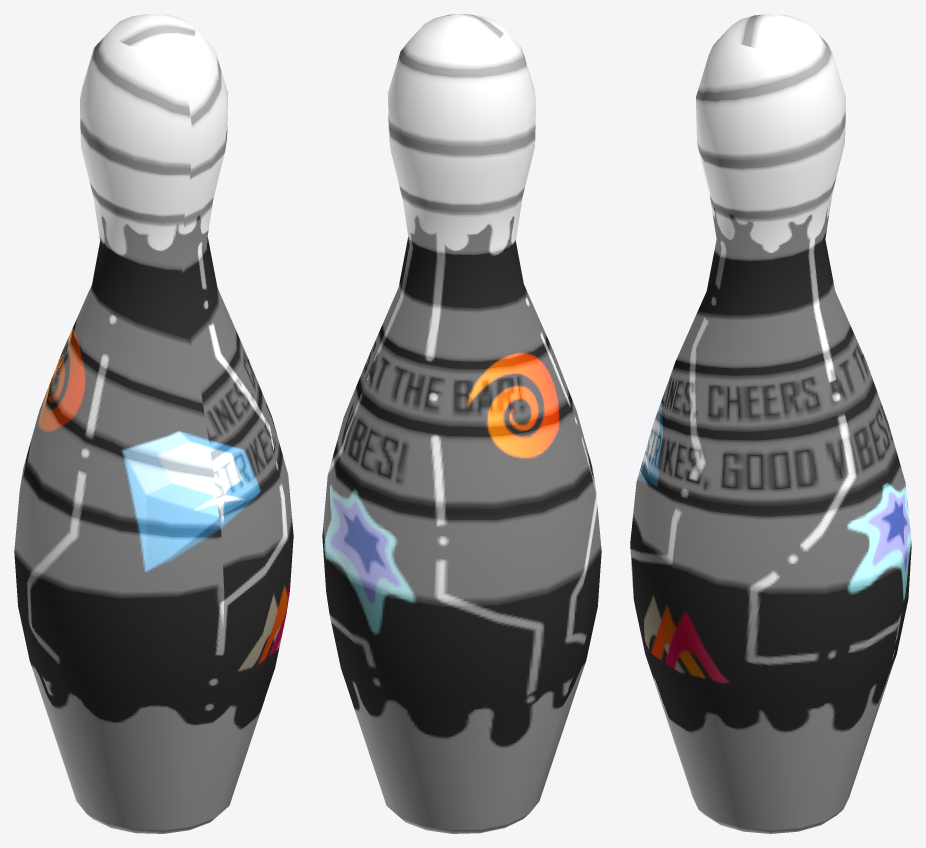
File: SM_BowlingPins_003.fbx
The picture shows the model from 3 angles, left to right: view 1: azimuth 30°, elevation 25°; view 2: azimuth 150°, elevation 25°; view 3: azimuth 270°, elevation 25°; orthographic projection.
Visible parts, largest first — view 1: SM_BowlingPins_003; view 2: SM_BowlingPins_003; view 3: SM_BowlingPins_003.
Part boxes in pixels (x1,y1,x2,y2): SM_BowlingPins_003: (14, 14, 293, 833); SM_BowlingPins_003: (322, 14, 601, 833); SM_BowlingPins_003: (630, 14, 911, 833).
Bounding box in the file's own units: 7.8 × 7.8 × 24.13.
1 material, 1 textured.
